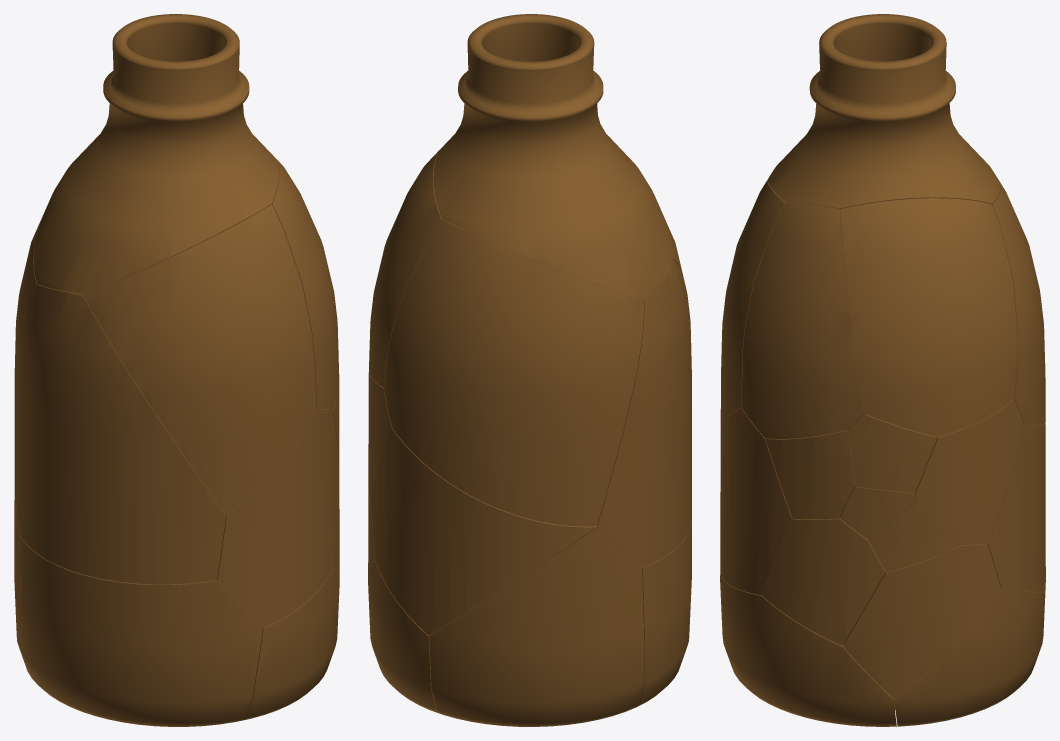
File: bottle_growler_shards.glb
The picture shows the model from 3 angles, left to right: view 1: azimuth 30°, elevation 25°; view 2: azimuth 150°, elevation 25°; view 3: azimuth 270°, elevation 25°; orthographic projection.
Parts seen in each view (by area): view 1: Shard_00, Shard_01, Shard_05, Shard_03, Shard_11, Shard_07, Shard_12, Shard_02, Shard_04; view 2: Shard_02, Shard_00, Shard_04, Shard_09, Shard_01, Shard_08, Shard_03, Shard_10, Shard_14; view 3: Shard_08, Shard_00, Shard_12, Shard_07, Shard_13, Shard_10, Shard_15, Shard_11, Shard_14, Shard_09, Shard_16, Shard_02 (+4 smaller).
Part boxes in pixels (box(x1,y1,x2,y2)): Shard_00: box(33, 14, 278, 294); Shard_01: box(14, 284, 226, 584); Shard_05: box(83, 204, 316, 515); Shard_03: box(20, 535, 262, 726); Shard_11: box(217, 409, 338, 627); Shard_07: box(242, 566, 339, 720); Shard_12: box(270, 166, 339, 410); Shard_02: box(14, 218, 41, 417); Shard_04: box(14, 487, 30, 675); Shard_02: box(384, 219, 644, 526); Shard_00: box(433, 14, 672, 301); Shard_04: box(429, 528, 643, 726); Shard_09: box(371, 428, 596, 635); Shard_01: box(595, 260, 691, 567); Shard_08: box(369, 148, 445, 387); Shard_03: box(635, 517, 691, 707); Shard_10: box(368, 561, 440, 713); Shard_14: box(368, 372, 391, 503); Shard_08: box(840, 198, 1017, 436); Shard_00: box(768, 14, 1001, 209); Shard_12: box(742, 203, 864, 438); Shard_07: box(720, 573, 896, 726); Shard_13: box(843, 544, 1000, 698); Shard_10: box(894, 587, 1043, 726); Shard_15: box(761, 517, 885, 645); Shard_11: box(720, 408, 792, 594); Shard_14: box(914, 399, 1024, 544); Shard_09: box(987, 424, 1045, 592); Shard_16: box(765, 430, 855, 519); Shard_02: box(991, 184, 1045, 425).
Size of the model in its own units: 0.1006 by 0.215 by 0.101.
